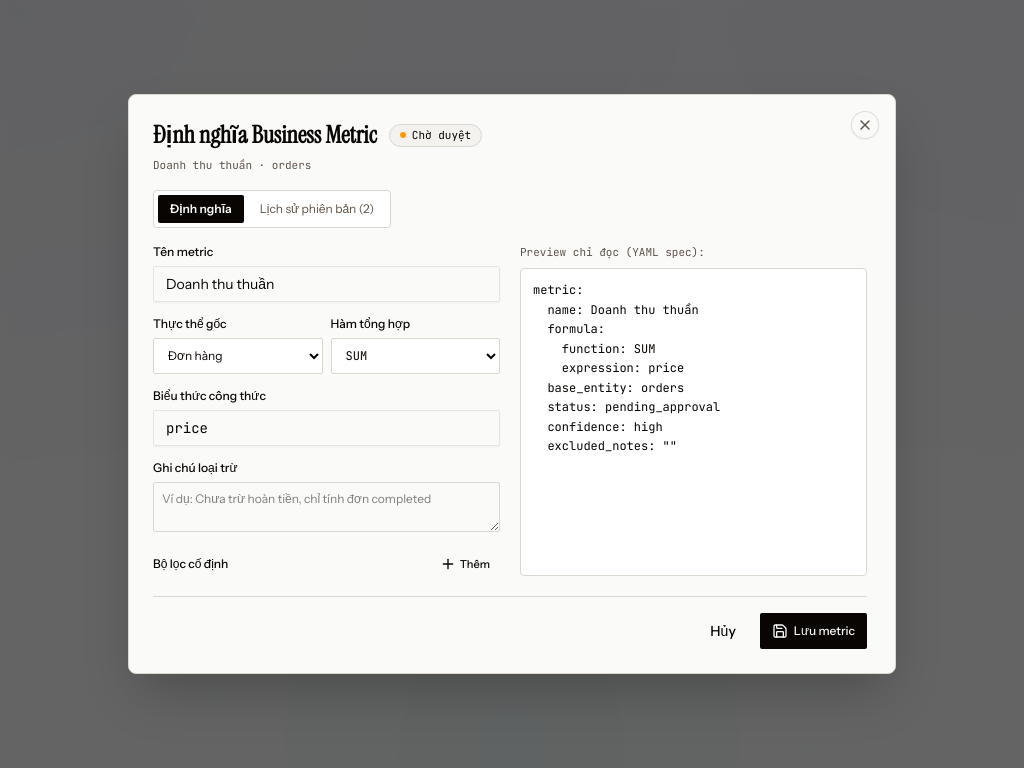
it: MetricModal › switches to History tab and shows version timeline
The image size is (1024, 768).
What coordinates should you click on to do the following:
click the button "Lịch sử phiên bản (2)"
I would click on:
 (317, 209)
Its box is [248,195,386,223].
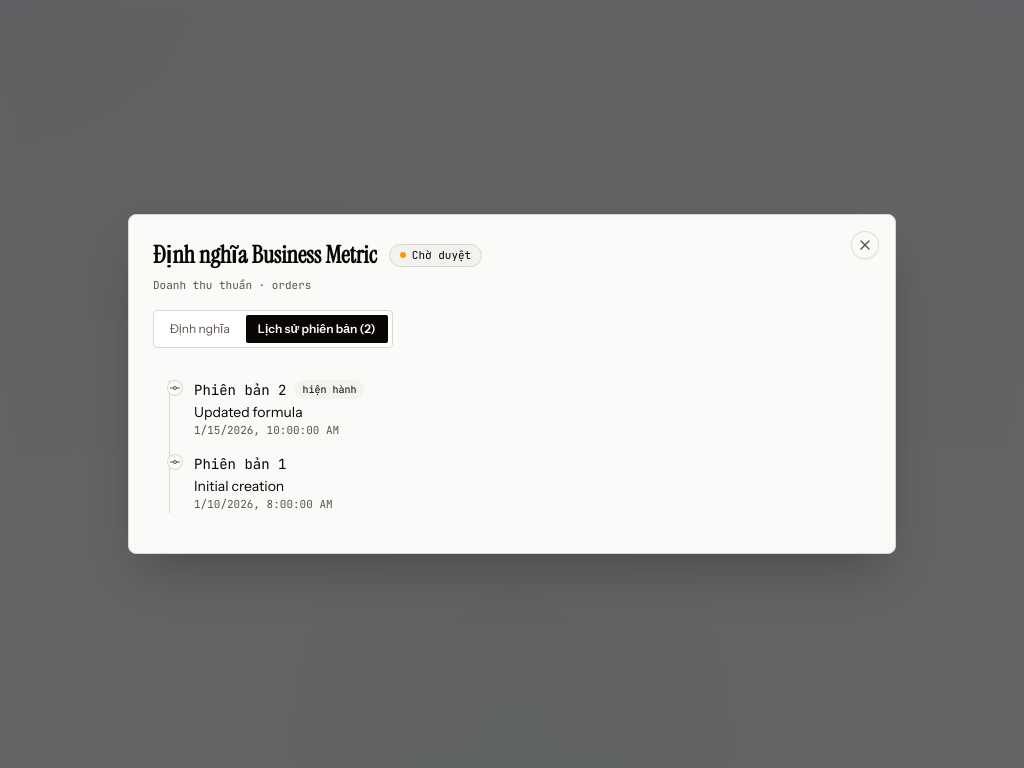
Result: the text "Phiên bản 2" is shown at [194,380,286,400]
Result: the text "Phiên bản 1" is shown at [194,454,286,474]
Result: the text "Updated formula" is shown at [194,403,303,421]
